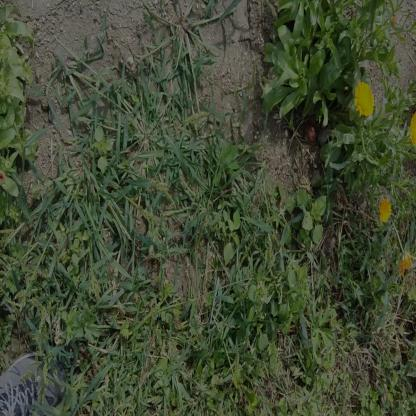marigold: (354, 81, 373, 118), (377, 196, 393, 224)
